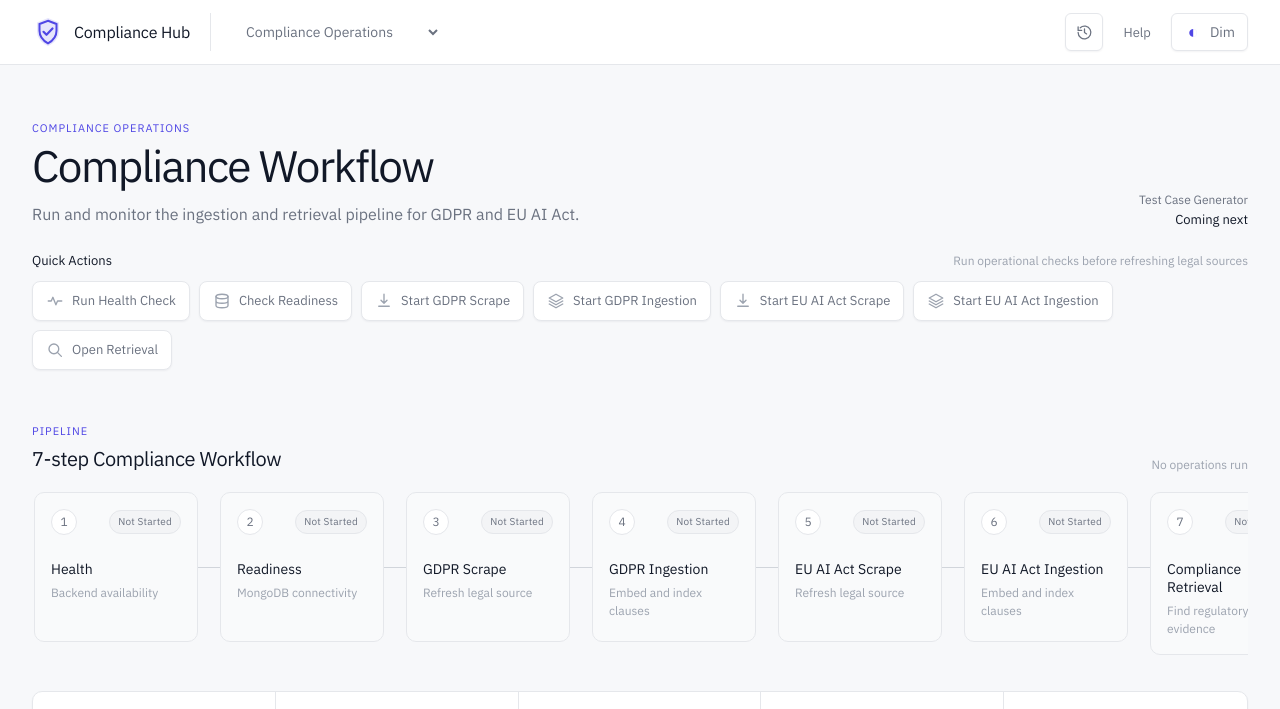
Test: GDPR scrape integration › requires confirmation and supports cancellation
The width and height of the screenshot is (1280, 709).
Click the button "Start GDPR Scrape". click: (443, 301)
box: [361,281,524,321]
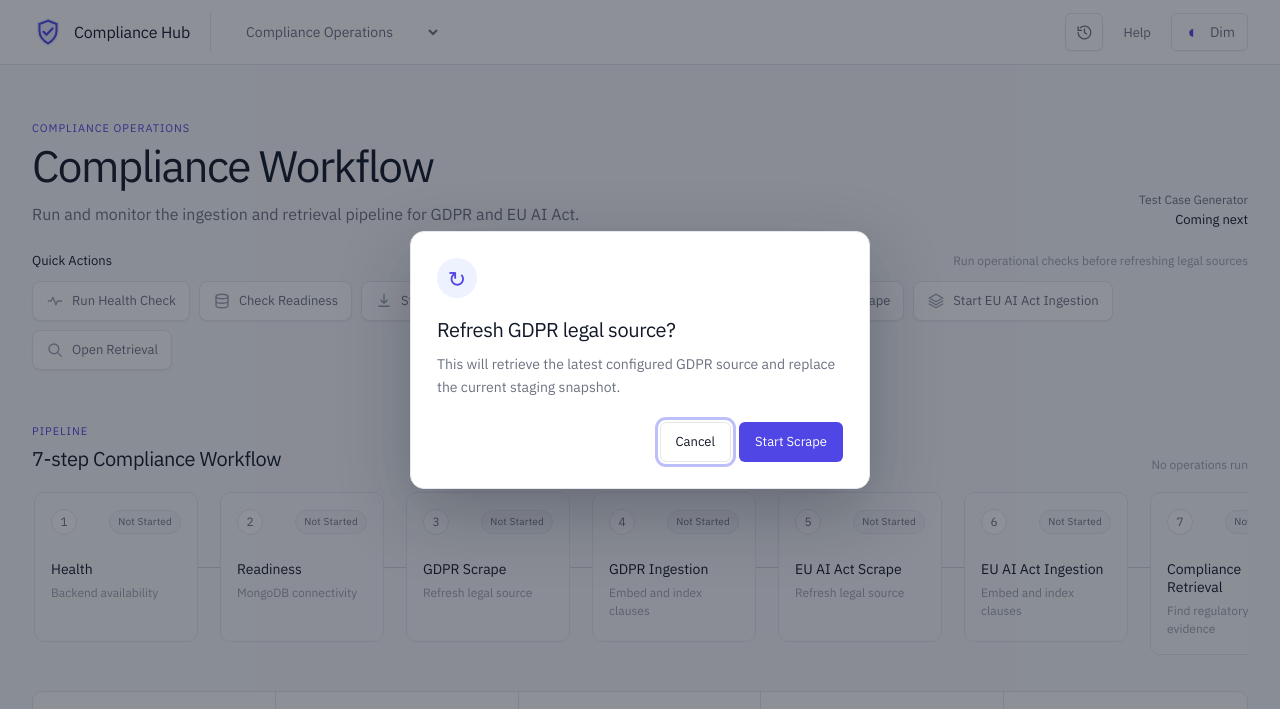
expect the dialog "Refresh GDPR legal source?" is shown: met, box [410,231,870,489]
Click the button "Cancel". click: (695, 442)
box: [660,422,731,462]
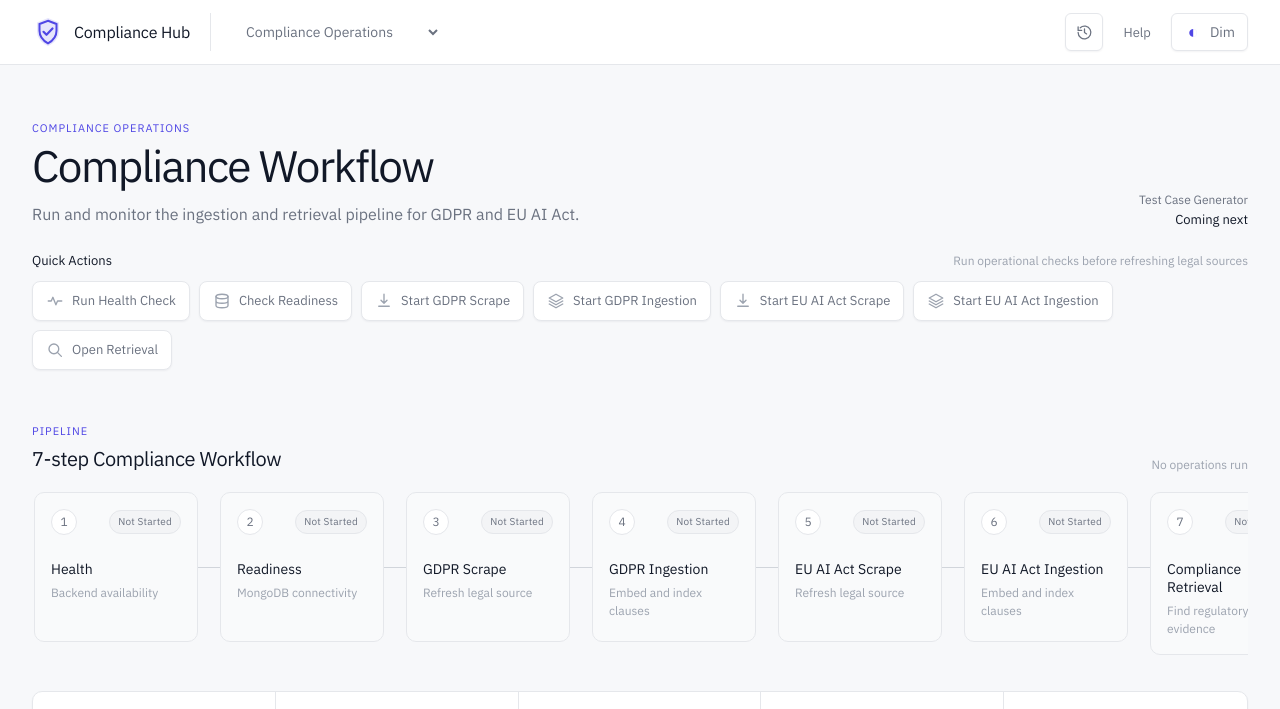
expect the dialog is gone: met
